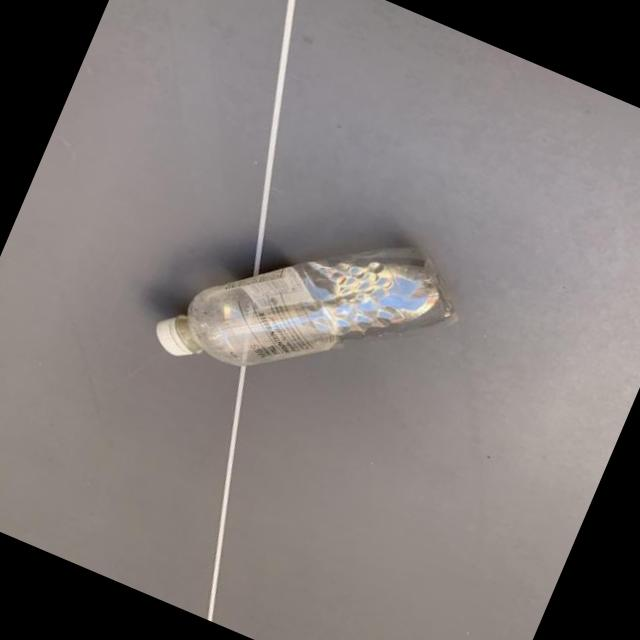BotolPlastik: (146, 165, 477, 455)
